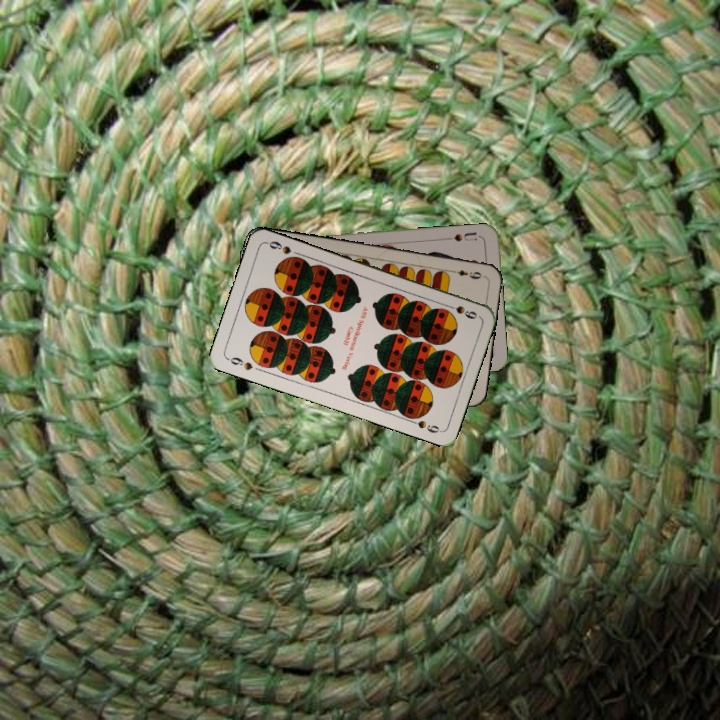E9: (446, 266, 487, 282)
S9: (441, 300, 480, 322), (224, 353, 255, 373)
SU: (443, 228, 483, 244)
